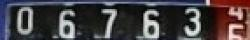digits: (93, 8, 117, 36), (182, 7, 201, 35), (16, 5, 33, 33), (142, 9, 159, 36), (58, 9, 75, 36), (225, 22, 246, 38)
